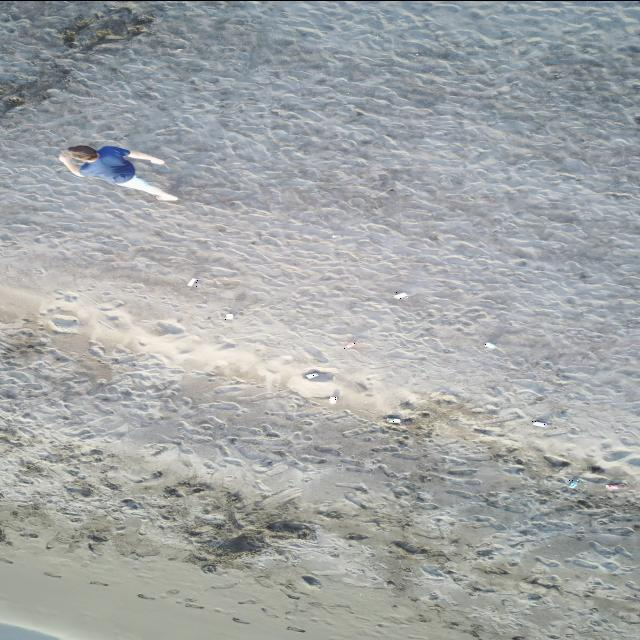Garbage: (303, 368, 332, 380), (567, 476, 580, 487), (387, 415, 402, 423), (532, 420, 547, 427), (607, 483, 624, 489), (393, 292, 407, 299), (344, 340, 355, 348), (187, 279, 198, 287), (304, 372, 319, 377), (484, 342, 495, 348), (328, 395, 336, 403), (223, 312, 232, 319)
